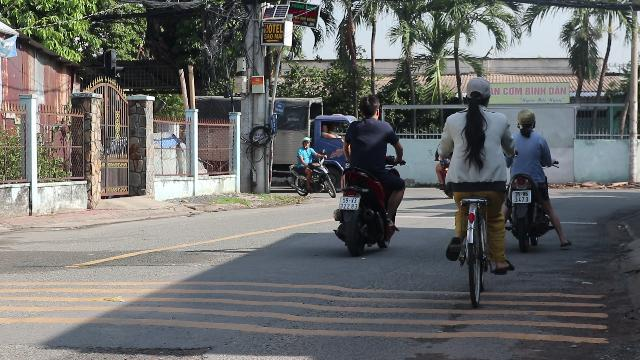helmet: (516, 109, 536, 131)
licenseplate: (340, 198, 360, 210), (512, 190, 530, 202)
motorcyclist: (330, 93, 406, 255), (504, 108, 564, 250)
nohelmet: (356, 94, 382, 120)
